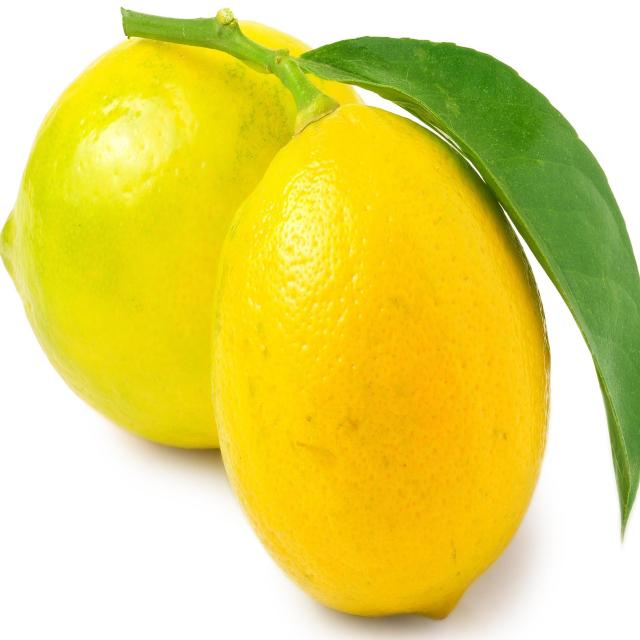lemon: (205, 91, 554, 630)
